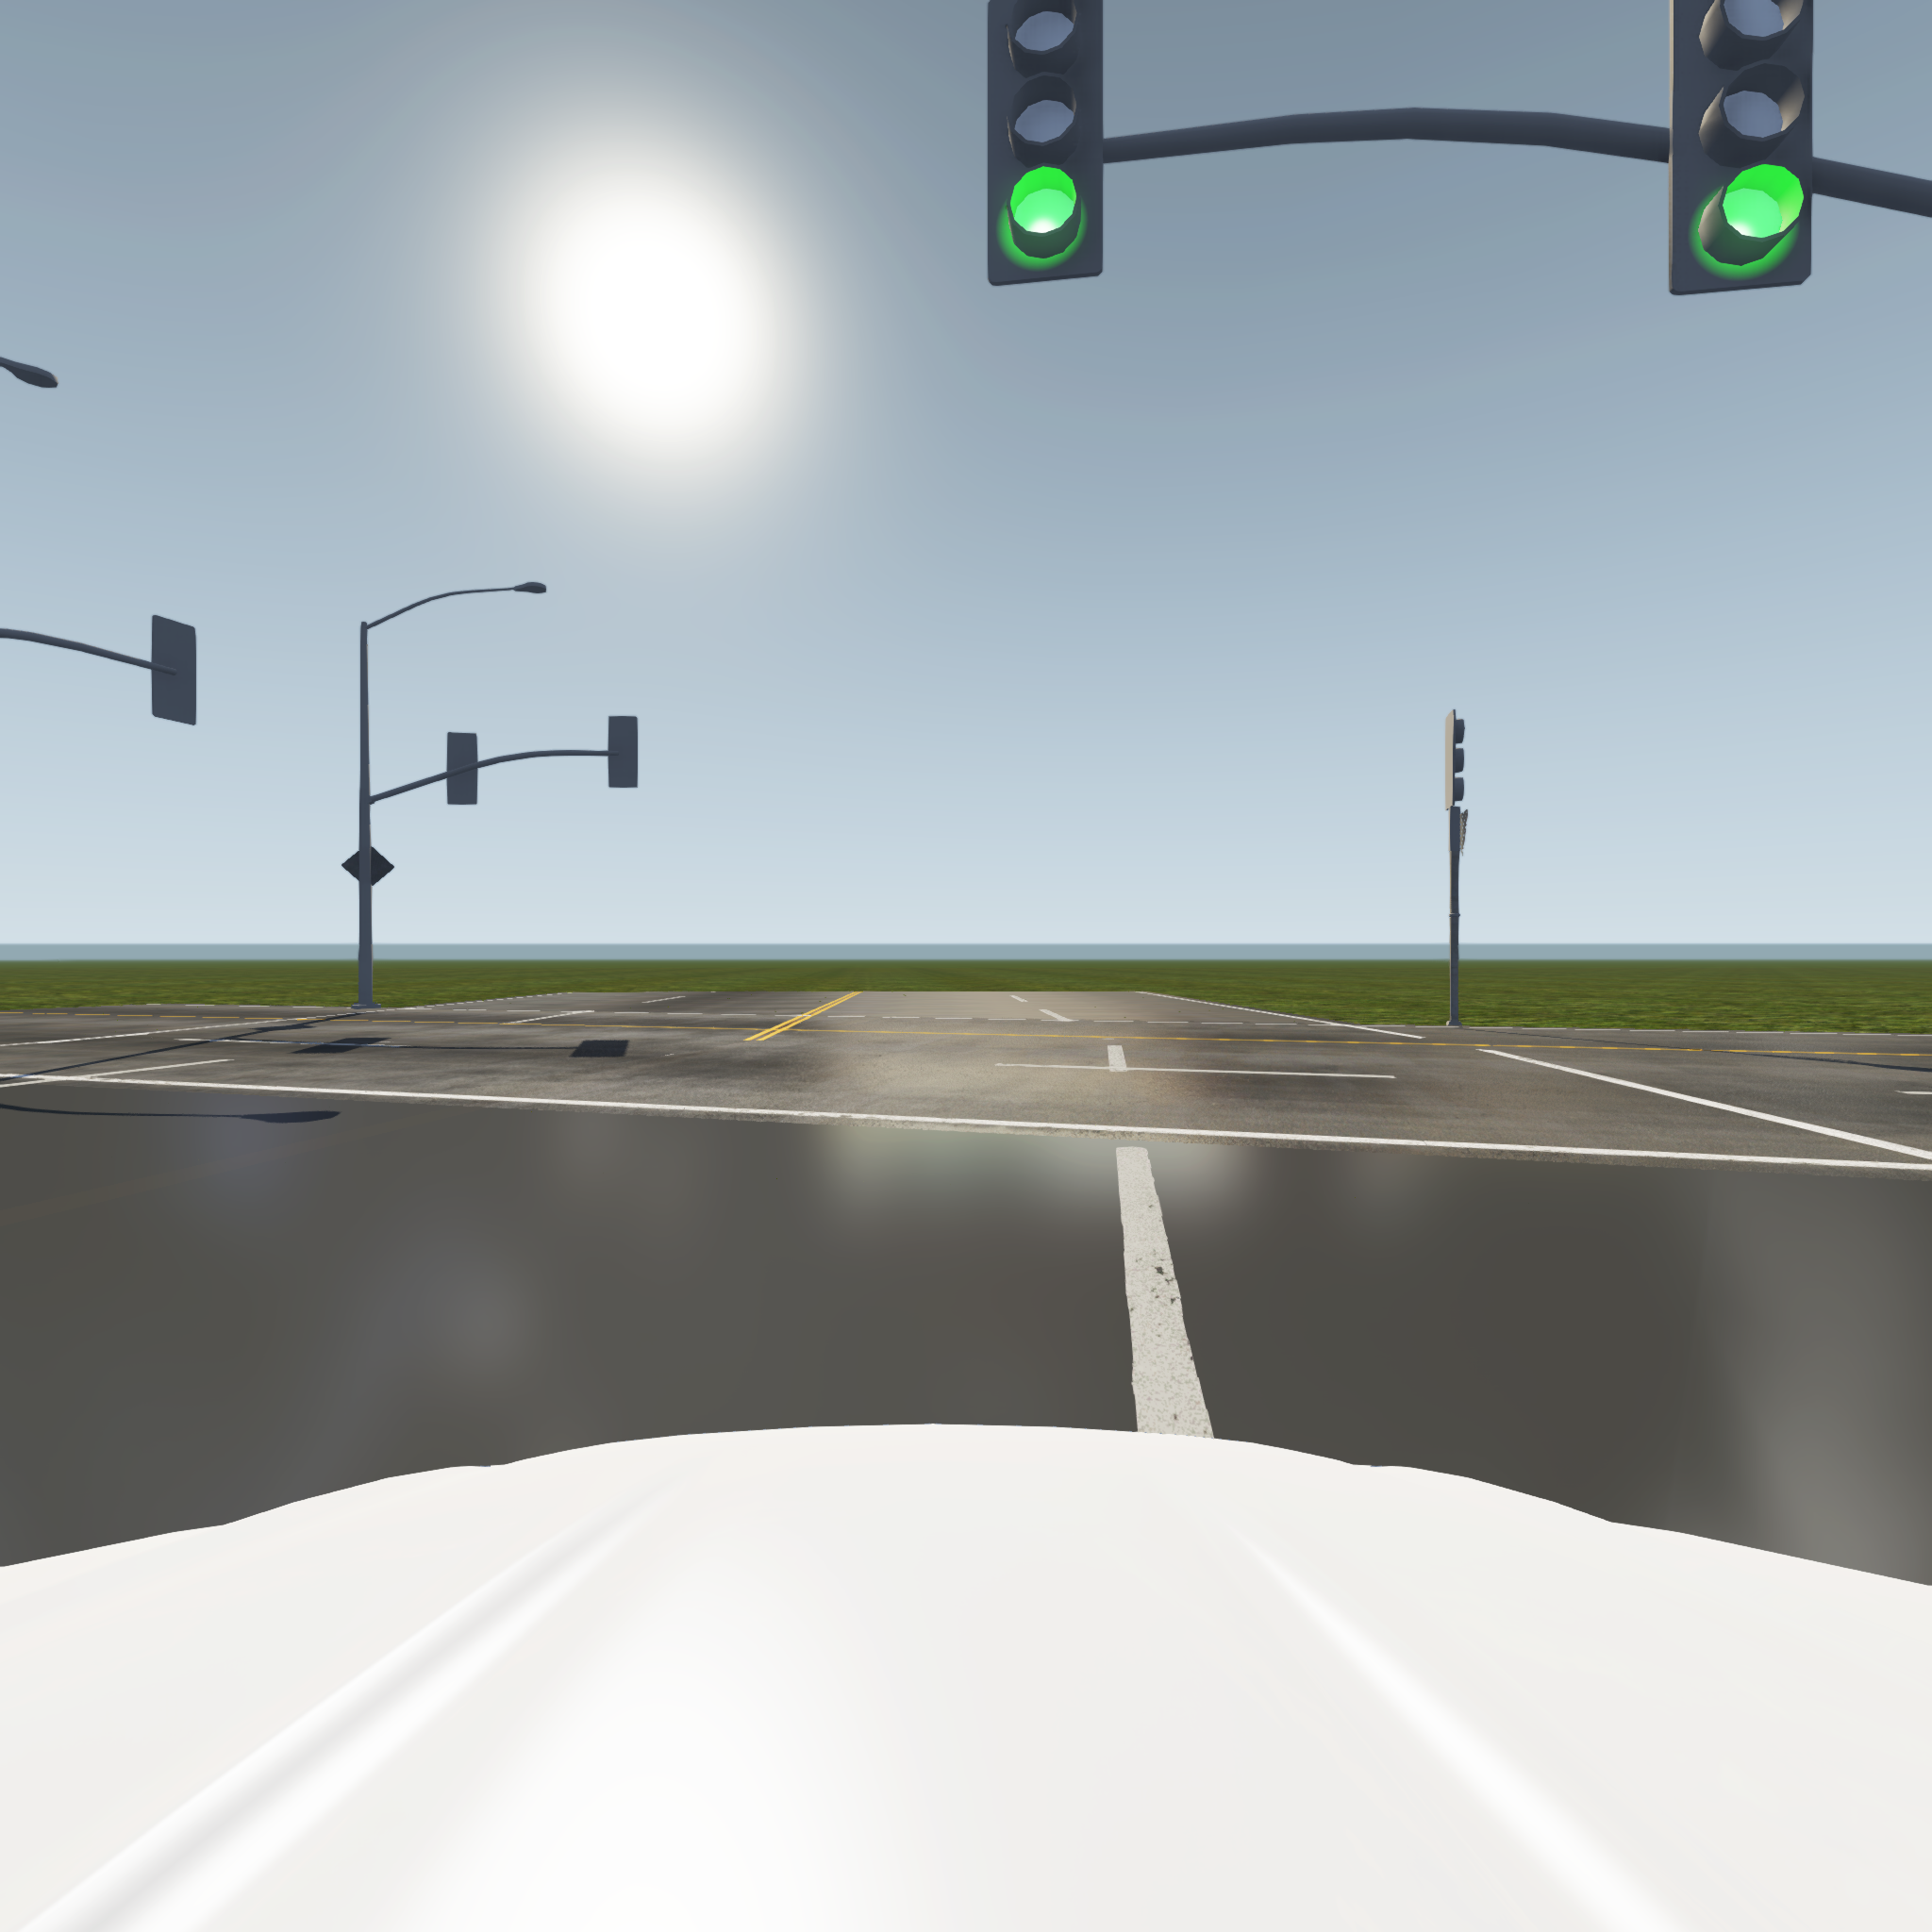green: (984, 5, 1102, 276)
